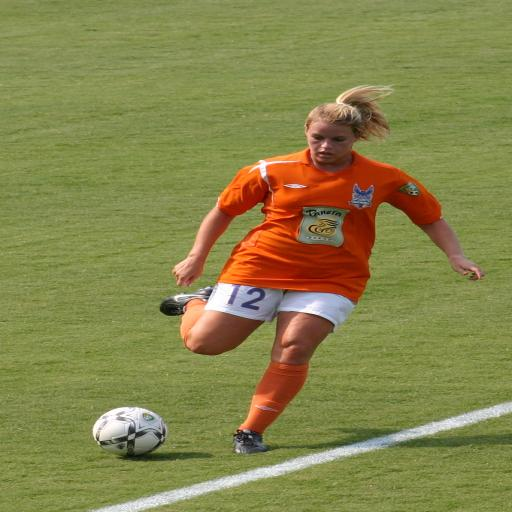Person: (173, 62, 425, 481)
no_boots: (226, 409, 278, 471), (183, 280, 226, 328)
no_gloves: (376, 232, 423, 292), (197, 235, 226, 288)
no_goggle: (288, 125, 326, 147)
no_helmet: (274, 70, 348, 162)
none: (220, 154, 376, 308)
